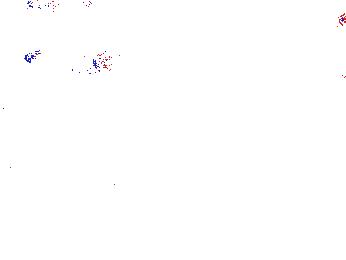X-ray fish: (18, 40, 76, 85)
glassfish: (221, 99, 330, 168)
redtail glassfish: (22, 43, 113, 75), (23, 1, 98, 15)
